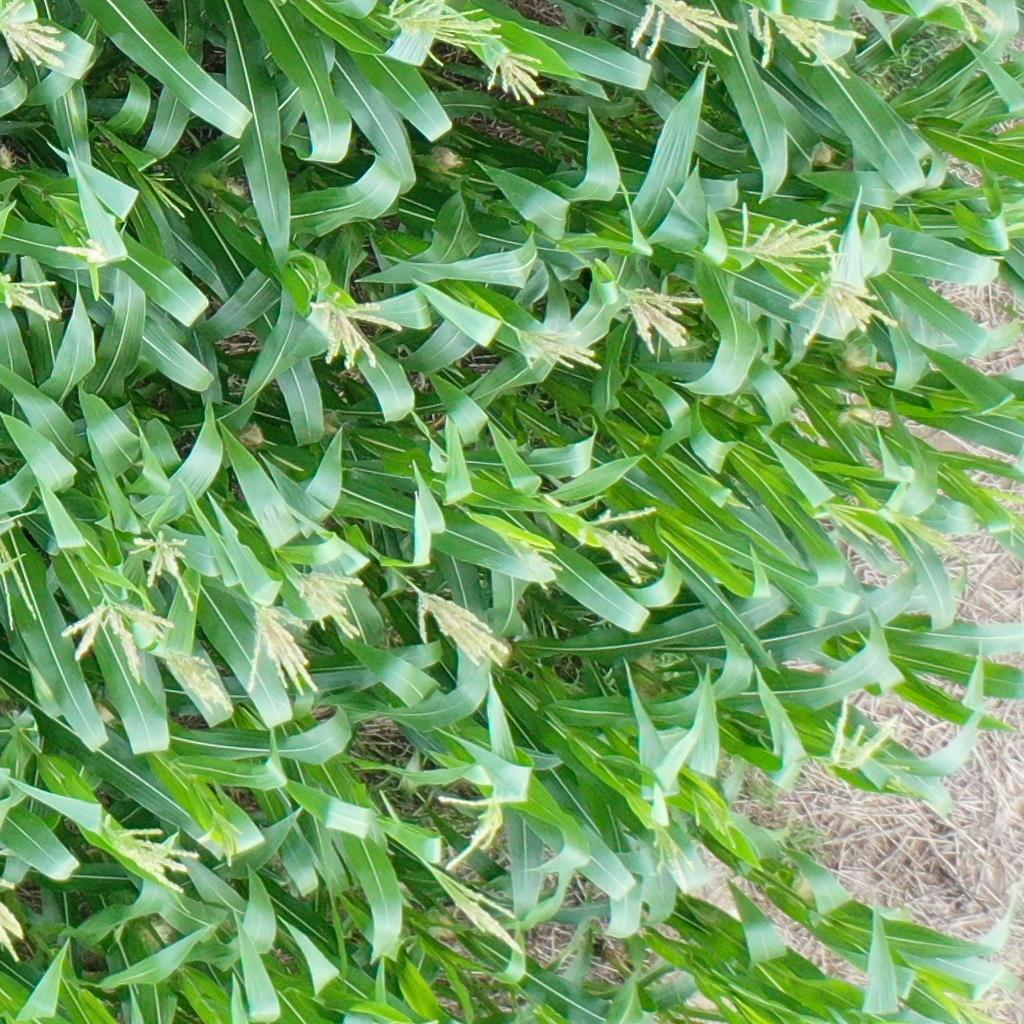Tassel: (747, 6, 870, 80), (786, 266, 893, 350), (732, 201, 845, 278), (435, 866, 530, 957), (412, 588, 514, 672), (62, 601, 172, 677), (381, 1, 506, 66), (309, 289, 404, 373), (99, 813, 199, 892), (578, 504, 667, 585), (246, 601, 320, 697), (431, 788, 514, 871), (630, 1, 741, 61), (818, 698, 899, 777), (623, 283, 708, 352), (129, 527, 203, 604), (294, 566, 369, 640), (510, 323, 608, 375), (1, 1, 72, 70), (168, 645, 233, 717), (502, 526, 567, 592), (1, 530, 42, 632), (889, 506, 964, 559), (488, 45, 547, 107), (687, 778, 742, 842), (1, 271, 66, 321), (815, 498, 884, 544), (646, 821, 695, 881), (141, 166, 193, 222), (941, 1, 1001, 43), (196, 810, 242, 862), (1, 878, 29, 960), (56, 231, 109, 268), (955, 995, 1004, 1024)
